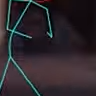hacks_2: (1, 1, 53, 96)
